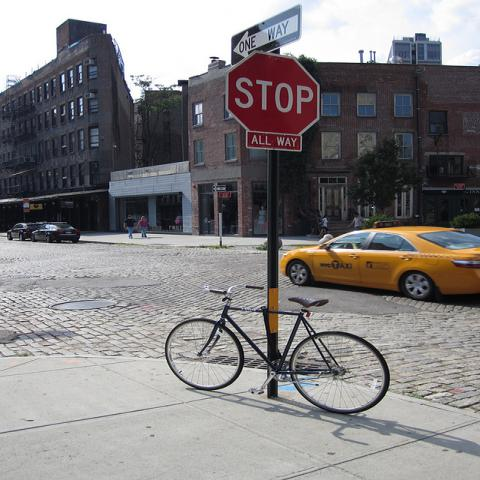car: (281, 223, 479, 298), (30, 222, 80, 243), (6, 222, 42, 241)
